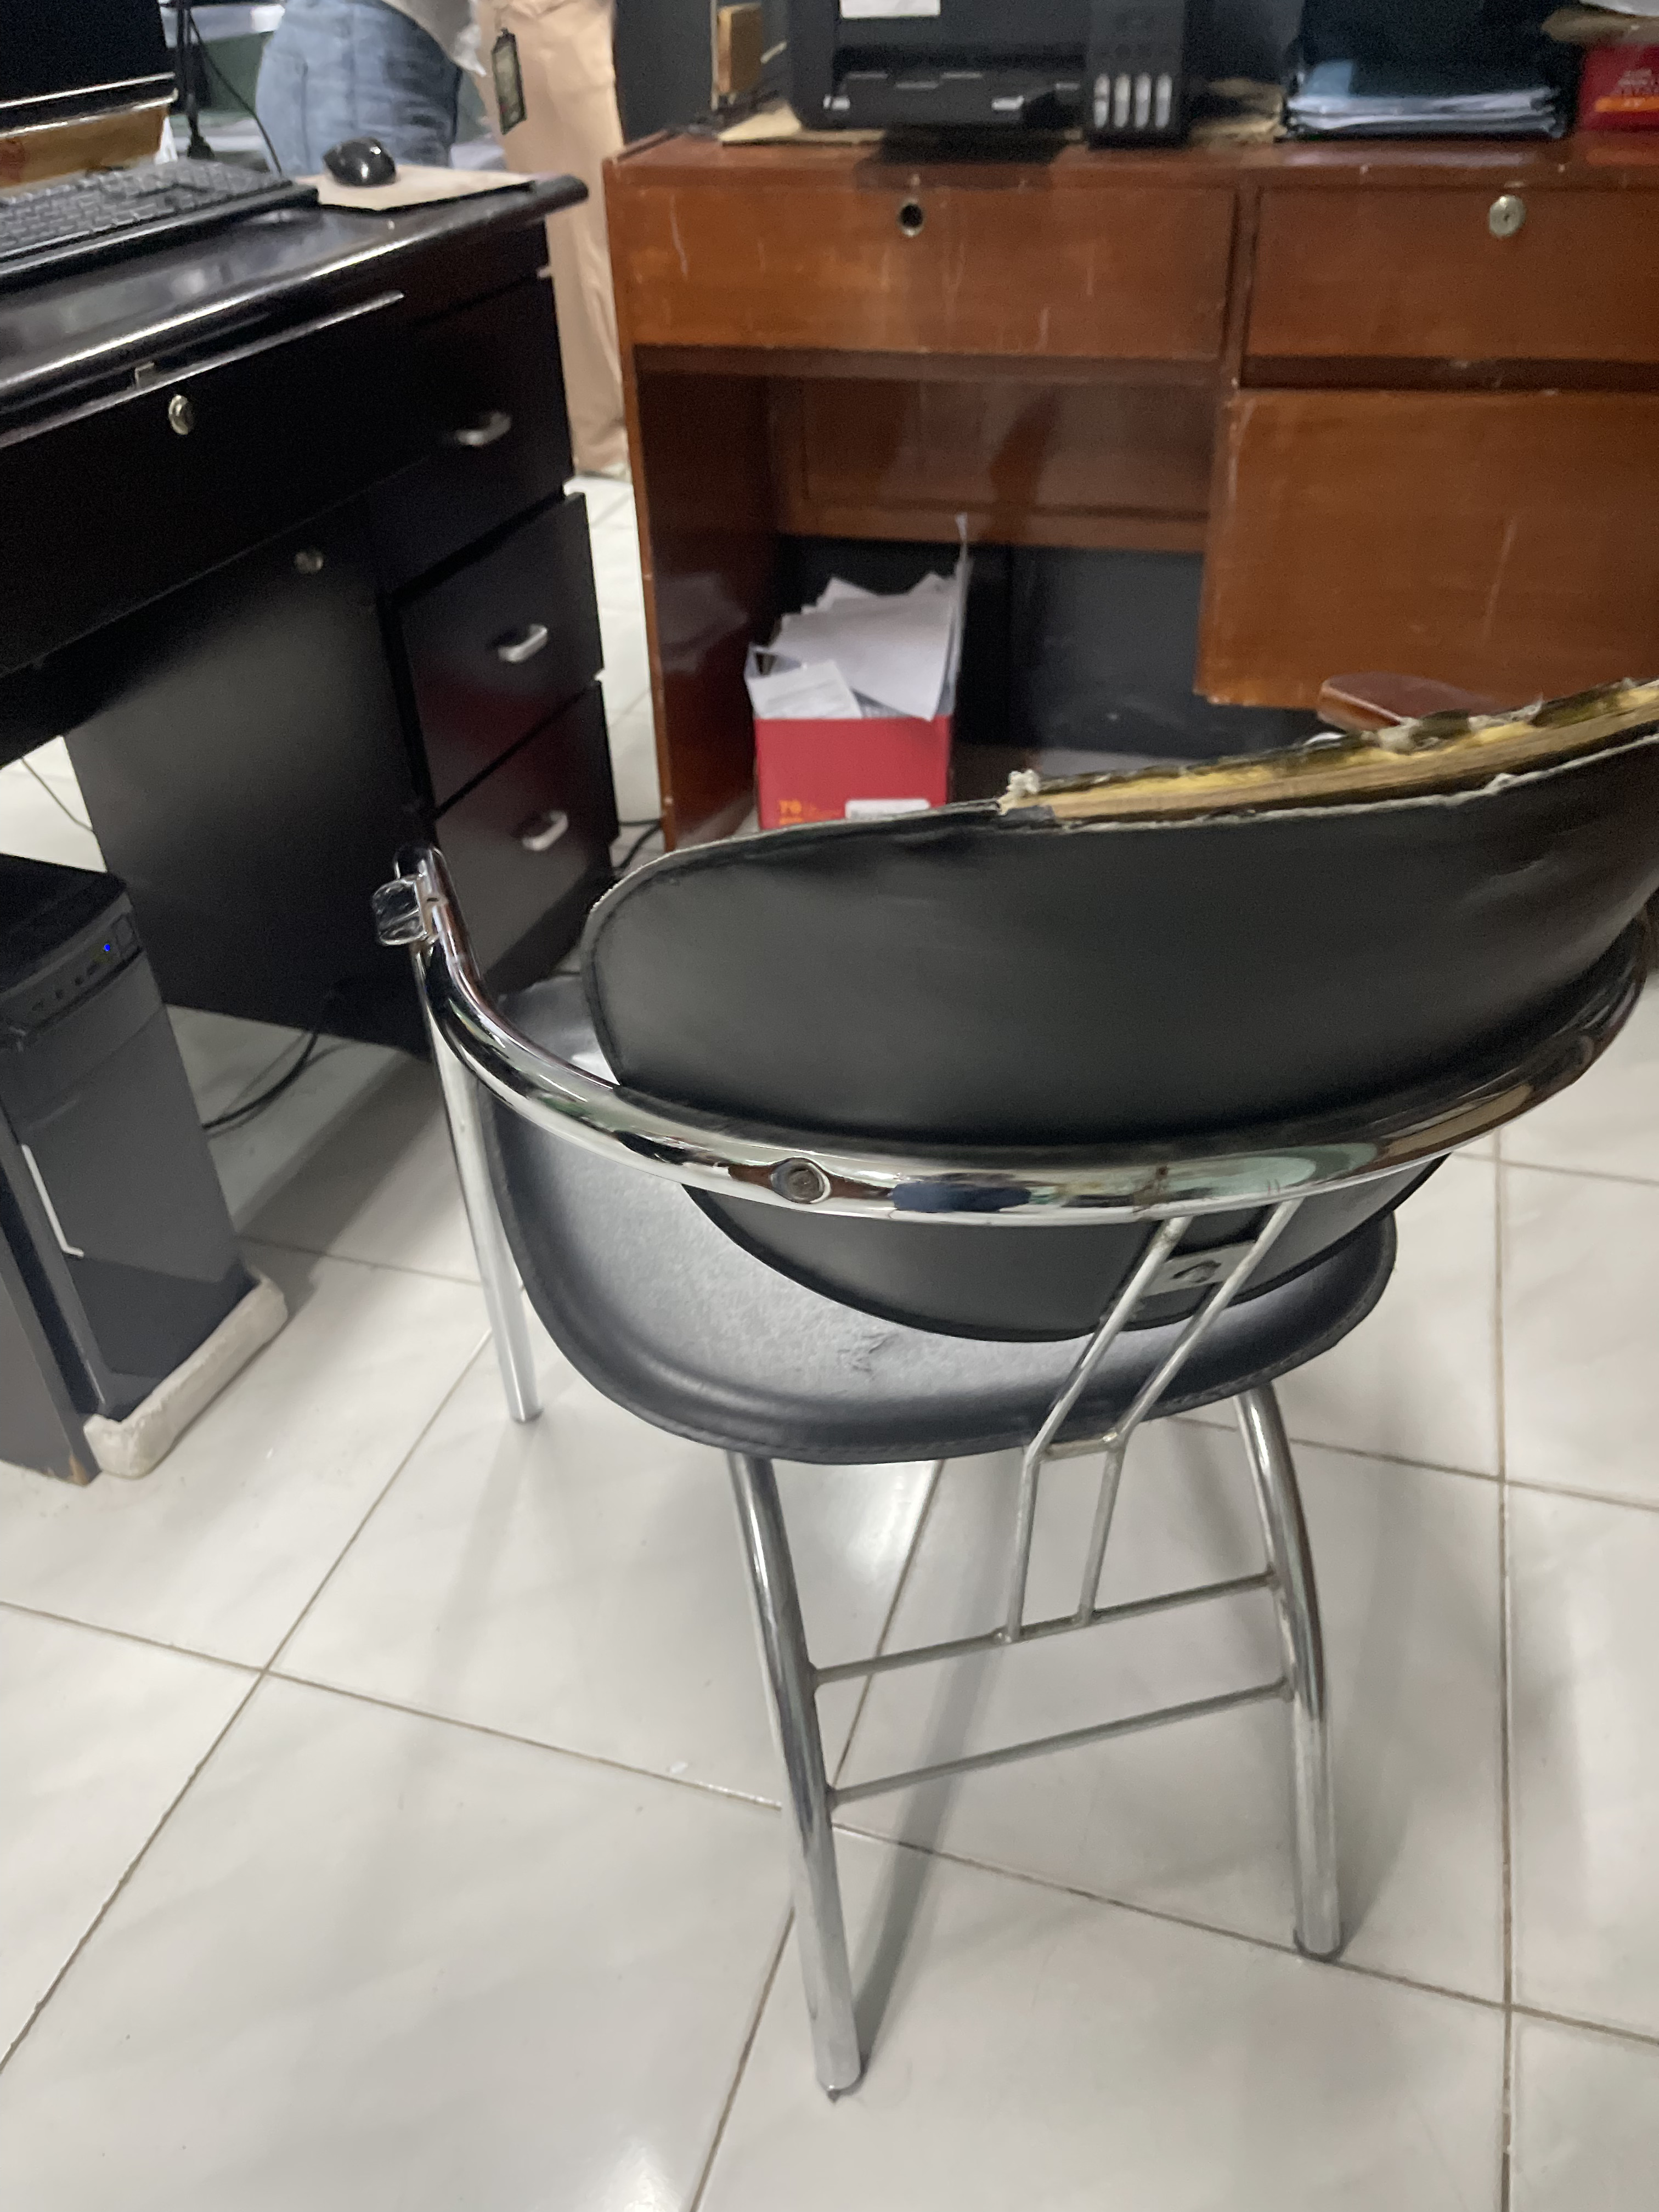chair1: (390, 674, 1659, 2107)
